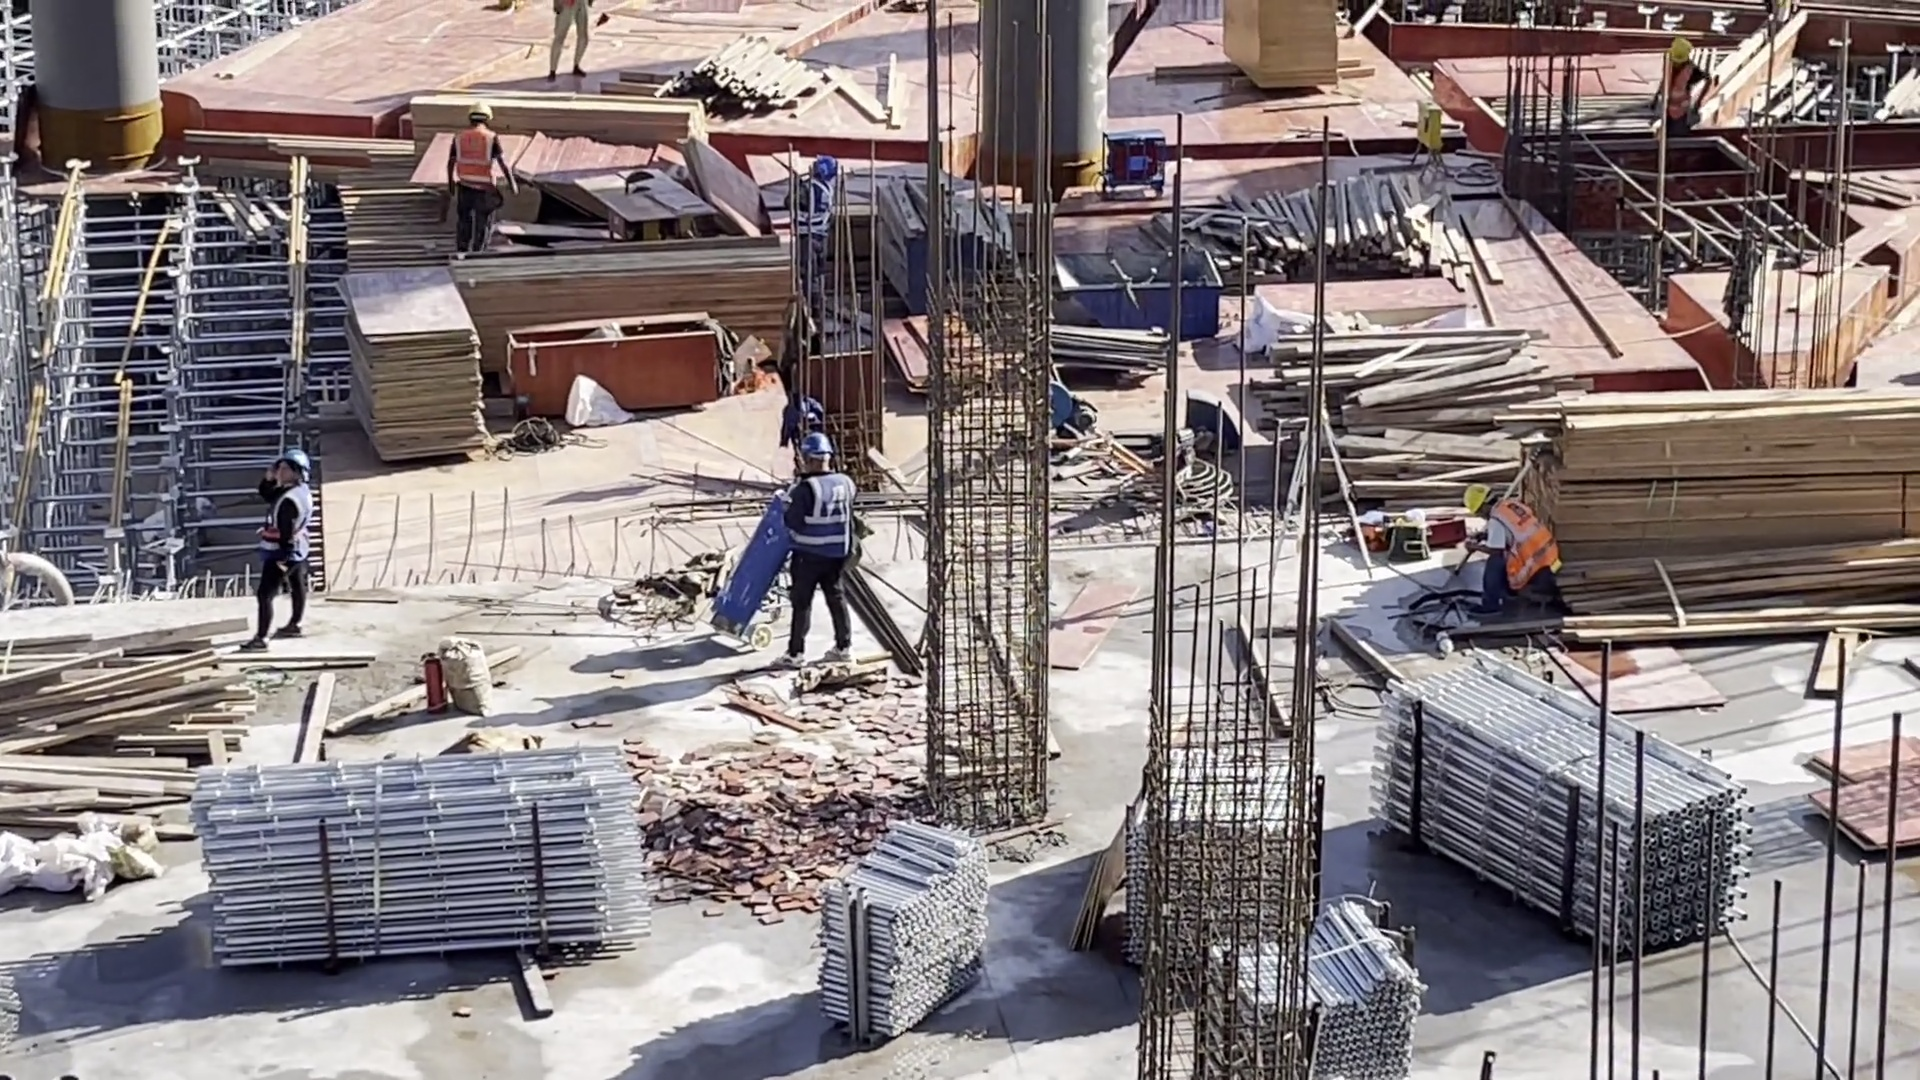board: (338, 262, 493, 464), (420, 131, 685, 194), (1221, 2, 1344, 91)
helmet: (1462, 483, 1489, 508), (800, 436, 829, 457), (280, 453, 306, 473), (466, 102, 495, 119), (811, 160, 835, 179), (1673, 34, 1691, 61)
hopper: (1051, 247, 1223, 334)
person: (791, 434, 856, 665), (1460, 483, 1563, 616), (443, 106, 512, 253), (259, 456, 306, 664), (792, 158, 844, 315), (1656, 35, 1717, 132), (549, 1, 593, 90)
scaffold: (1367, 641, 1754, 948), (188, 742, 655, 964), (1124, 741, 1313, 974), (1194, 897, 1426, 1078), (820, 823, 995, 1033)
vest: (1491, 503, 1551, 591), (796, 471, 850, 564), (261, 486, 307, 564), (454, 131, 496, 194), (798, 182, 831, 240), (1658, 71, 1695, 116)
wood: (1502, 390, 1920, 640), (1252, 324, 1536, 502), (4, 630, 240, 837), (1148, 176, 1473, 289), (462, 248, 787, 323), (413, 87, 704, 134)
